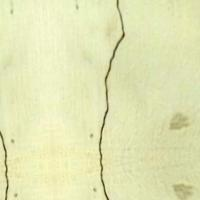crack: (79, 0, 143, 199)
